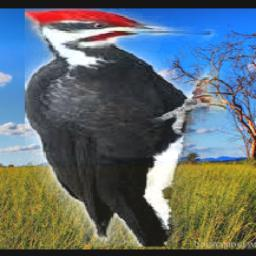Woodpecker: (26, 9, 228, 248)
